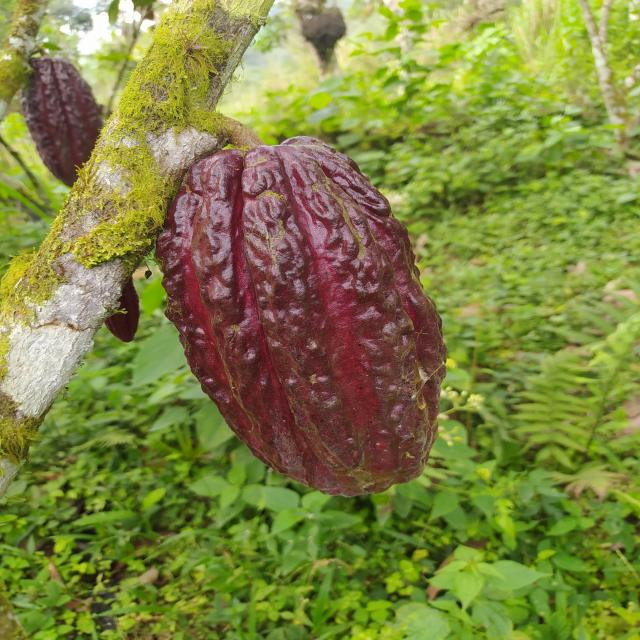Sana: (151, 134, 450, 499), (19, 58, 102, 188)
